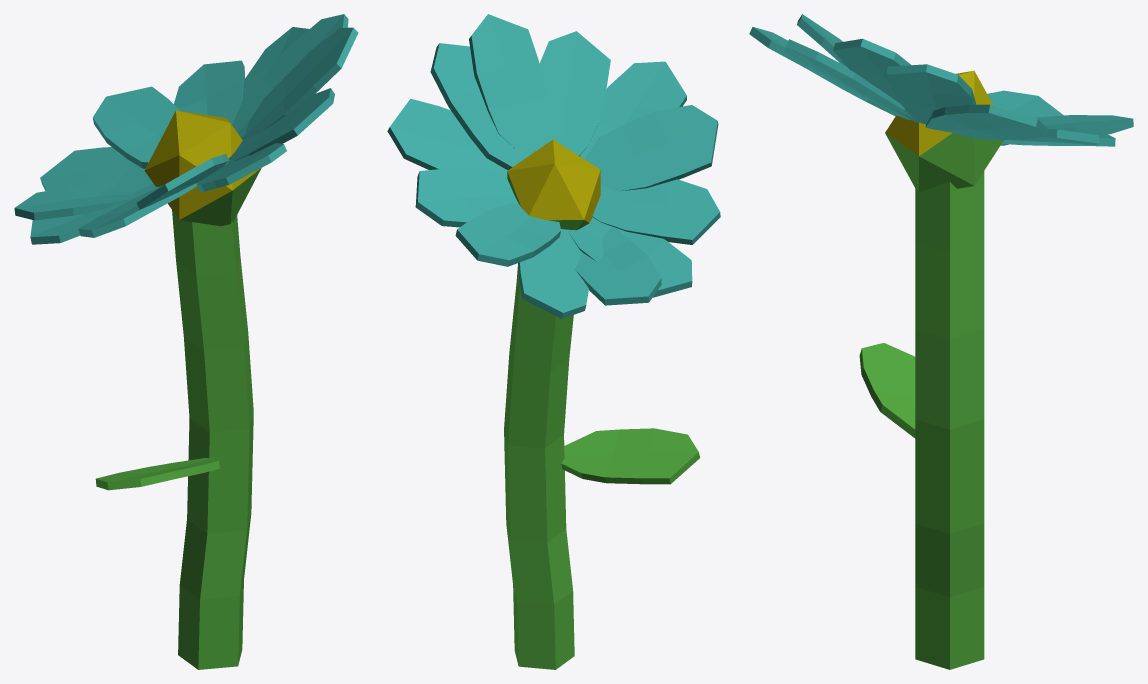
Rendered from BlueFlower.fbx.
The picture shows the model from 3 angles, left to right: view 1: azimuth 30°, elevation 25°; view 2: azimuth 150°, elevation 25°; view 3: azimuth 270°, elevation 25°; orthographic projection. The views are drawn at different scales.
Visible parts, largest first — view 1: BlueFlower; view 2: BlueFlower; view 3: BlueFlower.
Part boxes in pixels (left/top/right/bottom): BlueFlower: left=14, top=14, right=358, bottom=669; BlueFlower: left=387, top=14, right=720, bottom=669; BlueFlower: left=749, top=14, right=1133, bottom=669.
Size of the model in its own units: 1.49 by 3.05 by 1.59.
